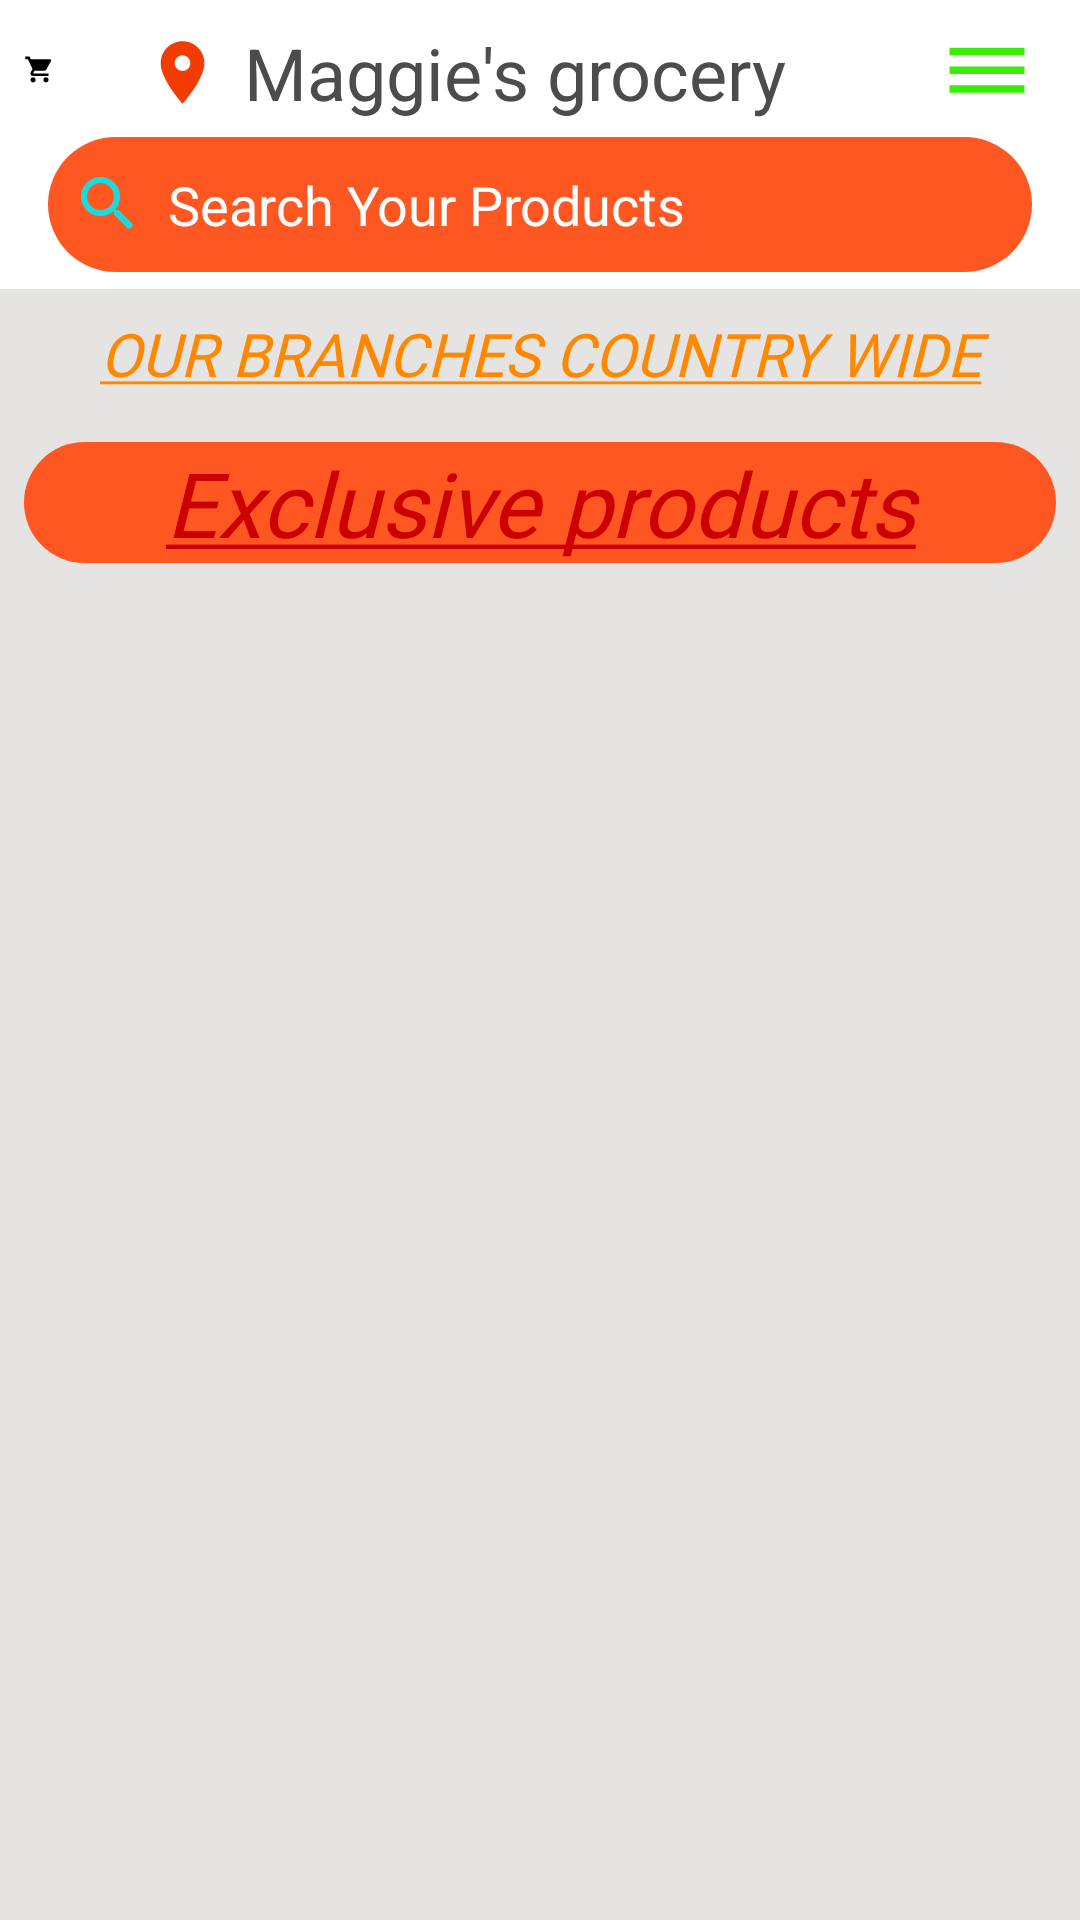

Named icons in this screenshot (1080px x 1920px) and their bounding boxes, (x1,y1,x2,y2):
cart tralley: (25,56,51,83)
open drawer: (949,47,1025,93)
